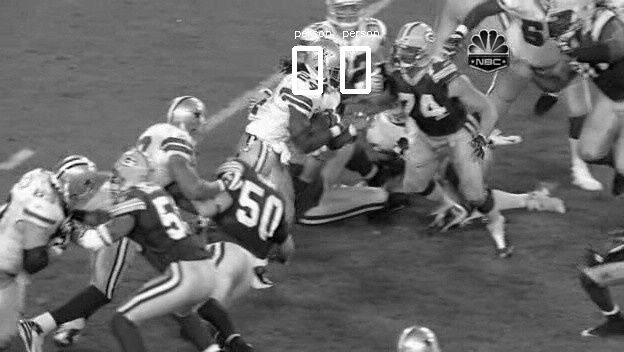person: (311, 42, 345, 86), (310, 42, 344, 86), (312, 42, 346, 86), (311, 41, 345, 85), (311, 43, 345, 87)
target_negative: (73, 10, 178, 340), (420, 230, 621, 262), (434, 173, 621, 203), (522, 139, 551, 251), (363, 334, 515, 350), (49, 264, 346, 268)
